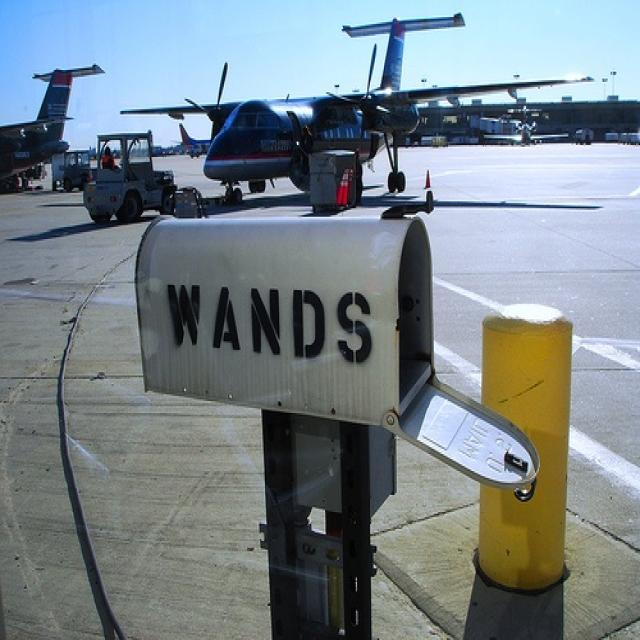aeroplane: (119, 12, 594, 206), (0, 63, 106, 193)
